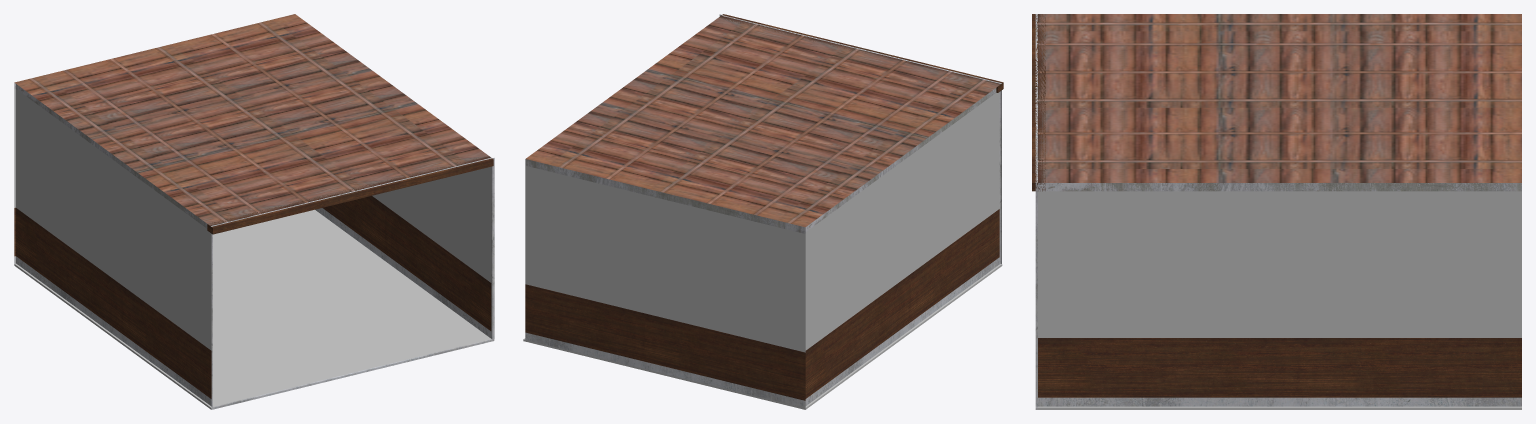
Rendered from ms_tri_b_2q_in01.fbx.
3 renders of one model, left to right at view 1: azimuth 30°, elevation 25°; view 2: azimuth 150°, elevation 25°; view 3: azimuth 270°, elevation 25°, orthographic. The views are drawn at different scales.
Visible parts, largest first — view 1: ms_tri_b_2q_in01; view 2: ms_tri_b_2q_in01; view 3: ms_tri_b_2q_in01.
Boxes of the visible parts, x1,y1,x2,y2 form: ms_tri_b_2q_in01: (14,14,494,409); ms_tri_b_2q_in01: (523,14,1003,409); ms_tri_b_2q_in01: (1032,14,1521,409).
Bounding box in the file's own units: 545 × 337 × 662.
